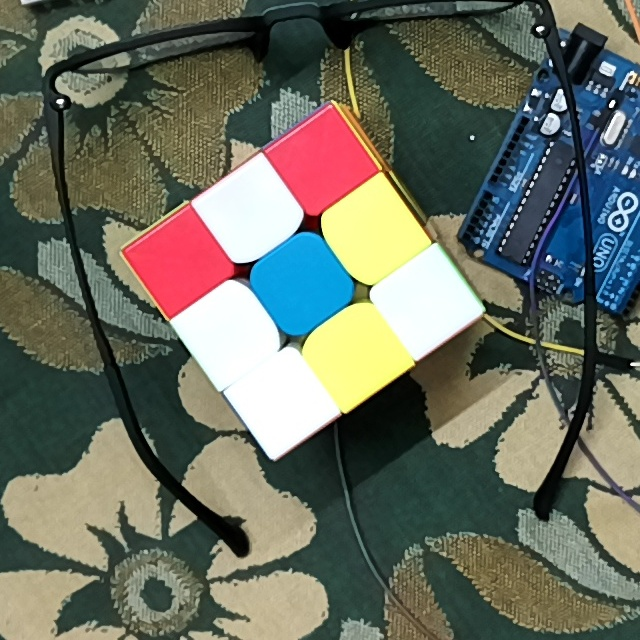tile: (252, 375, 316, 432), (199, 302, 257, 364), (270, 254, 333, 310), (221, 184, 281, 241), (345, 200, 402, 259), (149, 235, 211, 289), (327, 321, 381, 383), (289, 136, 352, 189), (395, 277, 453, 334)
